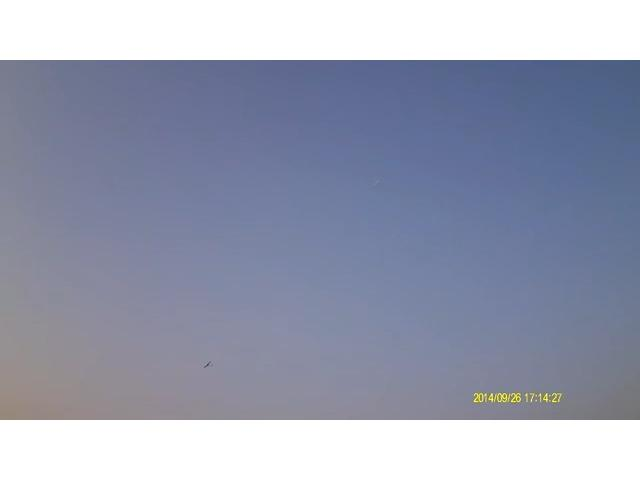Anti-Drone: (196, 355, 222, 375)
